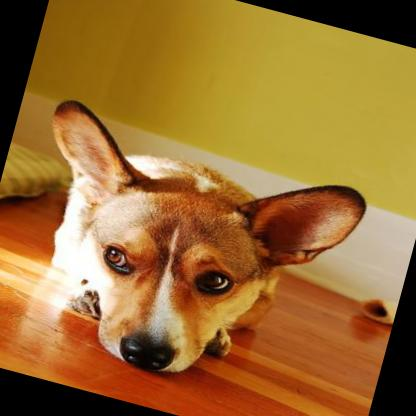Cardigan: (0, 88, 377, 416)
